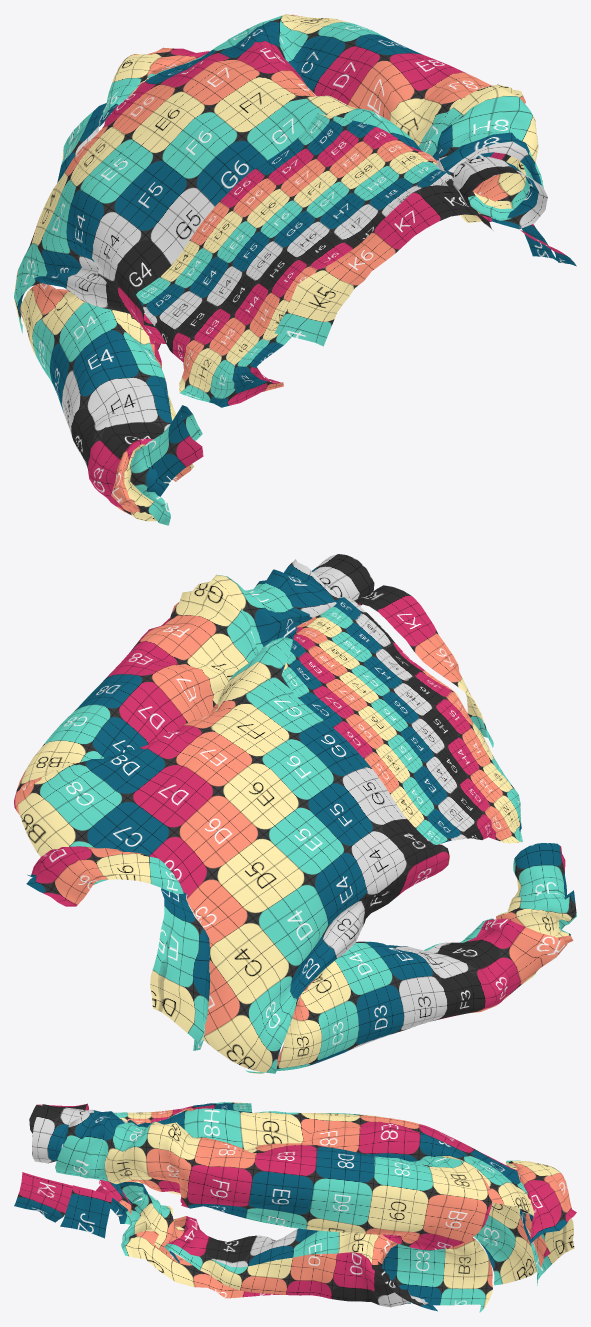
Rendered from Hoodie.glb.
3 renders of one model, top to bottom at view 1: azimuth 30°, elevation 25°; view 2: azimuth 150°, elevation 25°; view 3: azimuth 270°, elevation 25°, orthographic. The views are drawn at different scales.
Visible parts, largest first — view 1: front, sleeves, pocket, hood, back; view 2: front, sleeves, pocket, hood; view 3: sleeves, front, hood, back, pocket.
Boxes of the visible parts, <box> form: front: <box>14,14,494,346</box>; sleeves: <box>20,14,547,525</box>; pocket: <box>136,113,452,407</box>; hood: <box>57,47,209,182</box>; back: <box>520,224,576,266</box>; front: <box>18,585,493,1073</box>; sleeves: <box>14,554,576,1073</box>; pocket: <box>281,596,522,844</box>; hood: <box>26,846,210,1050</box>; sleeves: <box>32,1104,492,1312</box>; front: <box>29,1103,550,1285</box>; hood: <box>505,1160,576,1285</box>; back: <box>14,1172,112,1238</box>; pocket: <box>93,1102,252,1214</box>.
Bounding box in the file's own units: 0.92 × 0.774 × 1.31.
Materials: 5 (5 with a texture image).
